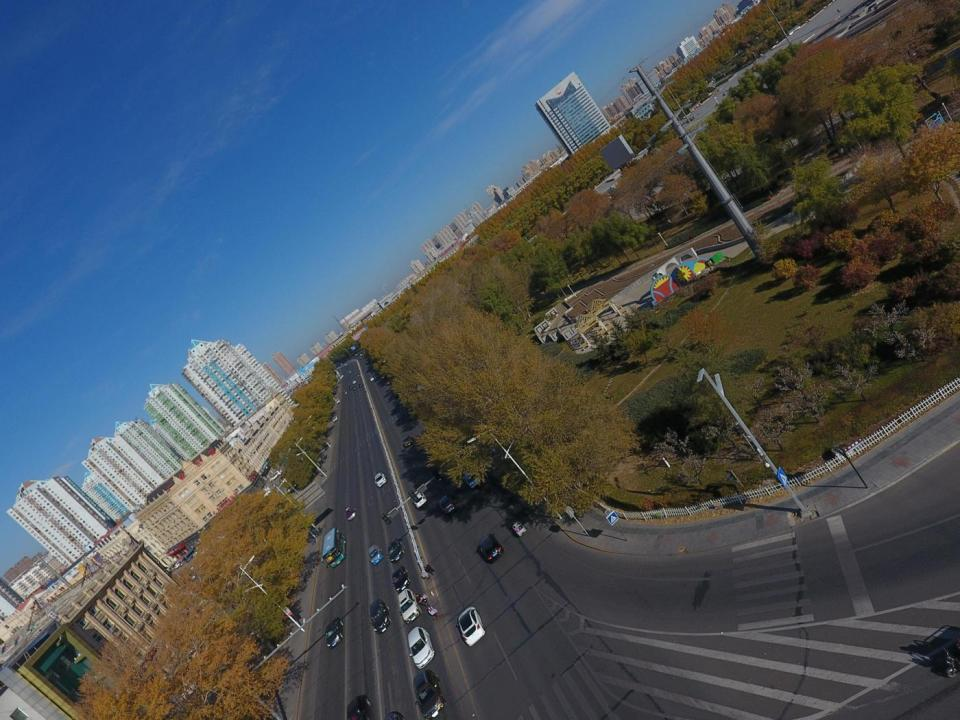bus: (449, 456, 482, 488), (322, 528, 346, 568), (182, 548, 198, 562)
car: (413, 669, 446, 720), (458, 607, 486, 647), (408, 627, 435, 668), (398, 588, 422, 625), (478, 532, 504, 564), (369, 600, 391, 634), (346, 694, 371, 720), (325, 618, 344, 649), (391, 565, 411, 592), (387, 538, 403, 563), (439, 494, 457, 516), (368, 544, 384, 566), (412, 490, 427, 508), (374, 472, 387, 488), (346, 506, 356, 521), (270, 470, 282, 482), (286, 482, 298, 494), (402, 435, 413, 448), (179, 558, 188, 567), (193, 548, 202, 556), (175, 560, 182, 569), (390, 386, 396, 392), (332, 416, 337, 422), (370, 376, 374, 382), (336, 398, 340, 404), (386, 380, 390, 385), (382, 375, 386, 380), (358, 384, 362, 388), (348, 386, 352, 390), (348, 370, 351, 374), (352, 380, 356, 383), (352, 387, 356, 390), (344, 390, 347, 394), (340, 375, 344, 377), (365, 361, 367, 364), (344, 364, 347, 366), (338, 369, 341, 371), (356, 375, 359, 377), (359, 358, 361, 360), (360, 354, 362, 356), (346, 367, 348, 369), (340, 377, 342, 379)
